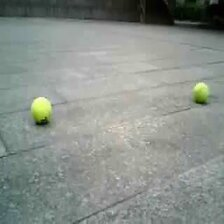tennis: (31, 96, 50, 119), (192, 83, 209, 101)
